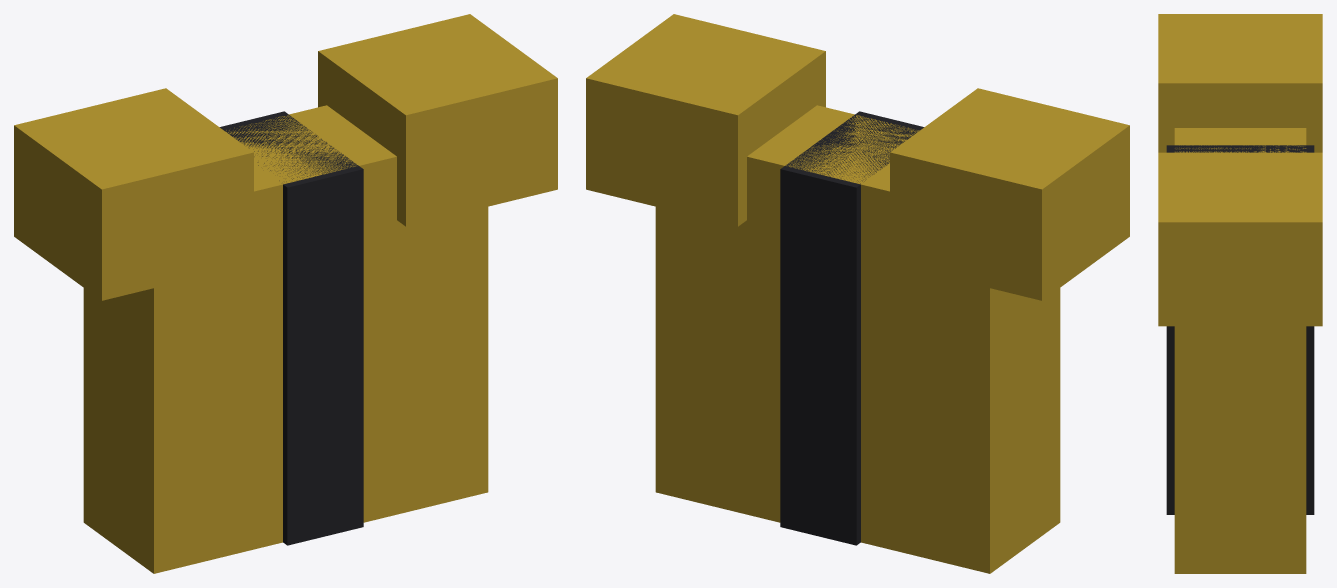
File: armor_50.glb
The picture shows the model from 3 angles, left to right: view 1: azimuth 30°, elevation 25°; view 2: azimuth 150°, elevation 25°; view 3: azimuth 270°, elevation 25°; orthographic projection. The views are drawn at different scales.
Parts seen in each view (by area): view 1: armor_50; view 2: armor_50; view 3: armor_50.
Part boxes in pixels (box(x1,y1,x2,y2)): armor_50: box(14, 14, 557, 573); armor_50: box(586, 14, 1129, 573); armor_50: box(1158, 14, 1322, 573).
Bounding box in the file's own units: 0.6 × 0.51 × 0.2.
